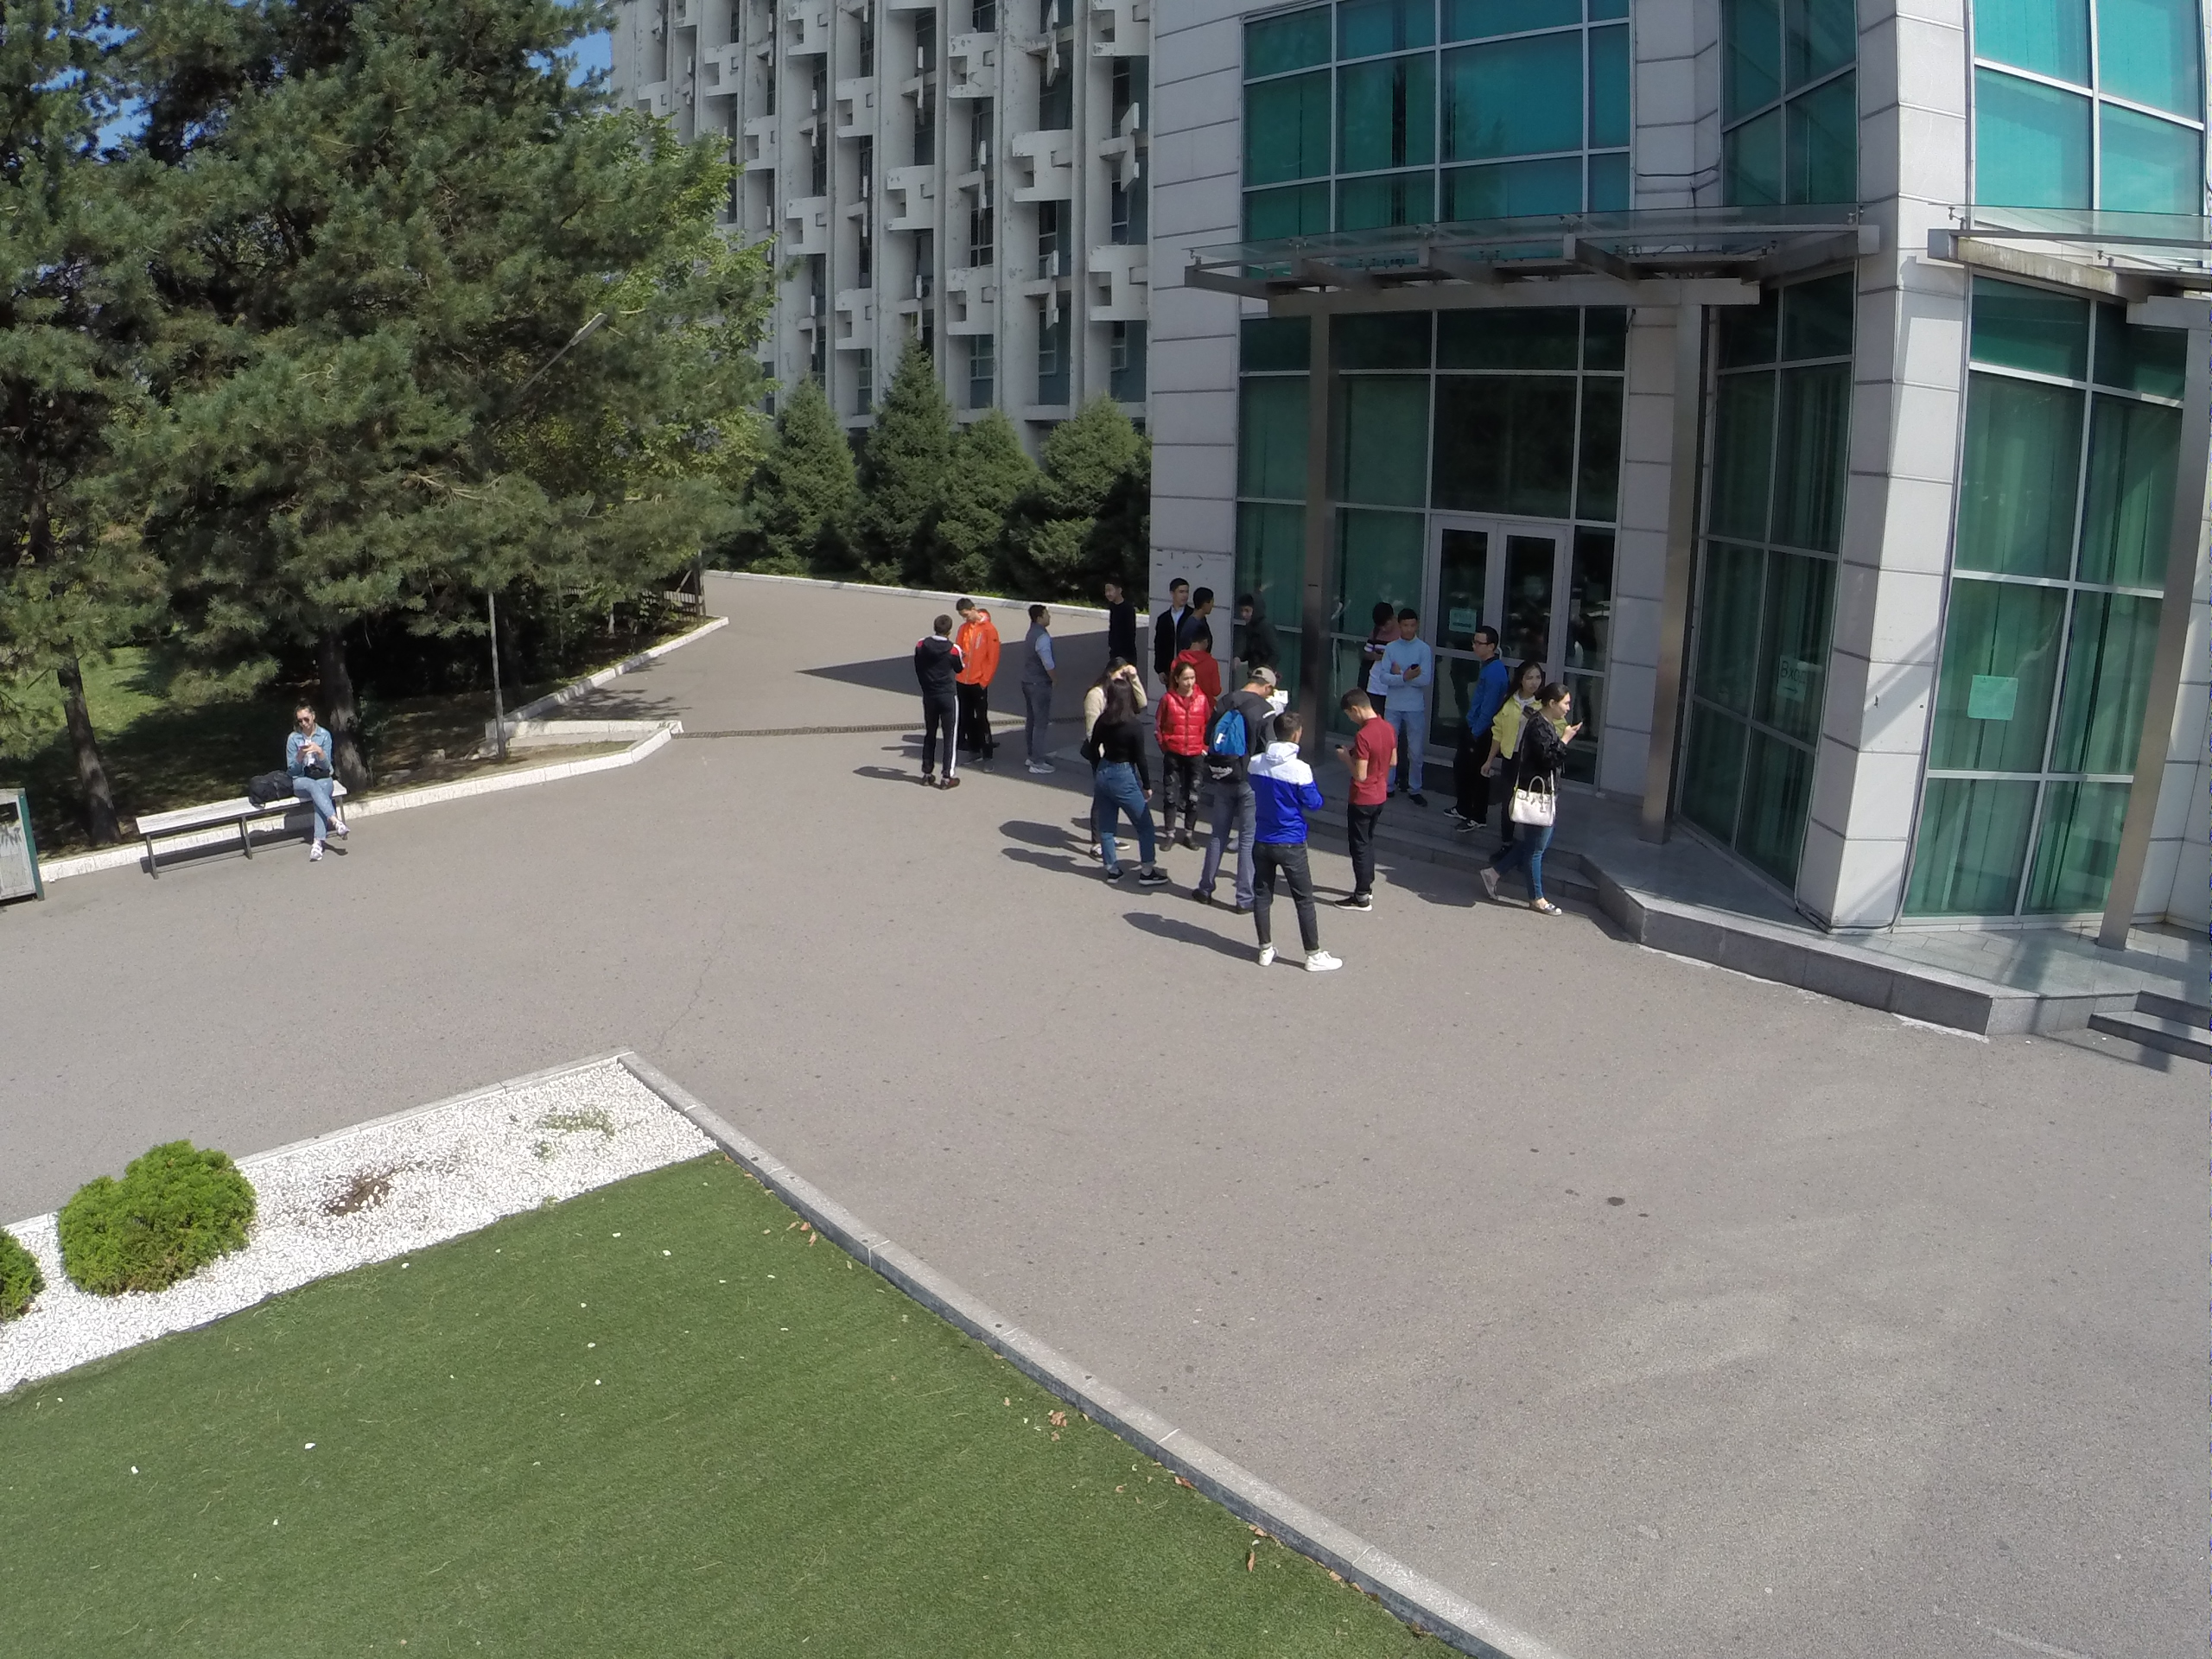person: (1231, 706, 1343, 976), (1480, 683, 1573, 925), (1199, 662, 1280, 909), (1336, 684, 1400, 915), (1095, 681, 1165, 888), (277, 693, 352, 870), (1480, 655, 1547, 847), (1445, 622, 1503, 832), (1381, 604, 1437, 807), (912, 611, 963, 794), (1160, 662, 1205, 855), (952, 592, 999, 779), (1021, 601, 1059, 784), (1147, 571, 1191, 664), (1363, 598, 1398, 695), (1238, 588, 1276, 671), (1096, 576, 1132, 653), (1178, 584, 1217, 653)
